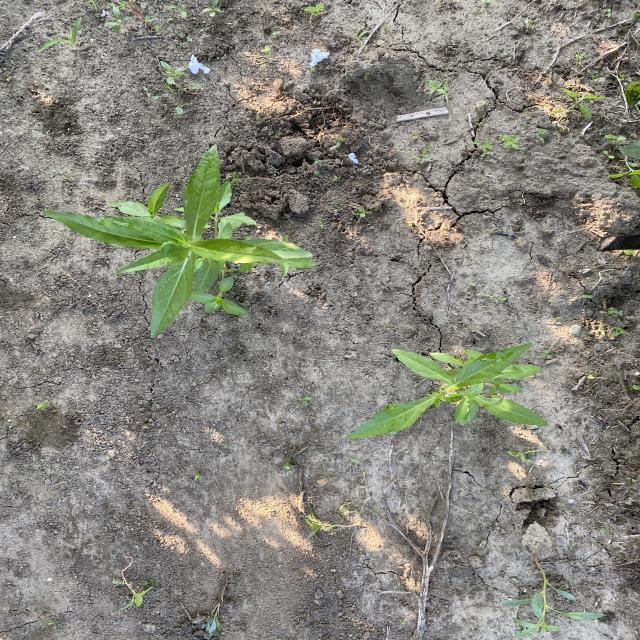Eclipta: (38, 143, 323, 340), (342, 342, 552, 443)
Waterhemp: (493, 549, 608, 639)
